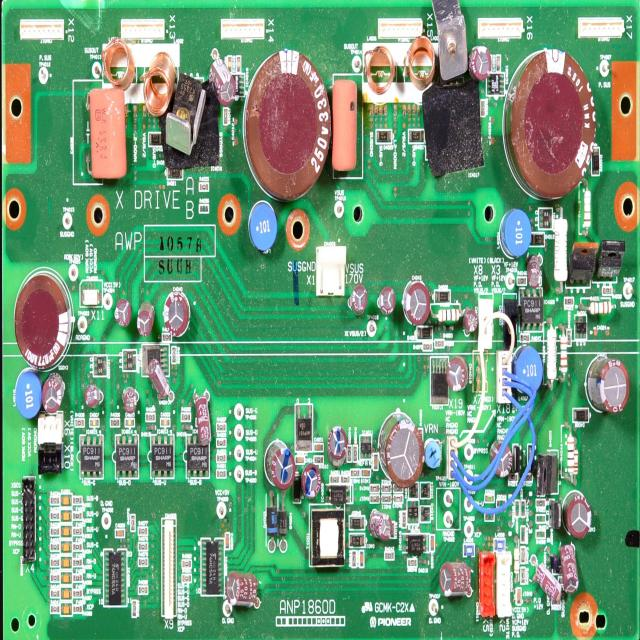Capacitor Jumper: (246, 48, 332, 205), (510, 51, 590, 199), (13, 279, 73, 371), (83, 88, 123, 188), (382, 419, 424, 484), (592, 356, 630, 415), (562, 492, 591, 537), (162, 292, 190, 335), (536, 564, 565, 604), (404, 282, 429, 326), (212, 61, 237, 102), (440, 562, 470, 596), (227, 574, 258, 606), (270, 445, 294, 486), (43, 372, 64, 412), (561, 543, 578, 590), (149, 360, 170, 398), (194, 393, 210, 441), (328, 427, 347, 463), (369, 509, 391, 540), (447, 357, 467, 391), (492, 442, 512, 476), (470, 46, 491, 78), (300, 466, 322, 496), (137, 305, 155, 337), (527, 256, 544, 288), (349, 288, 367, 314), (84, 383, 102, 408), (115, 300, 131, 328), (379, 286, 395, 313), (121, 389, 136, 412), (465, 310, 479, 332), (494, 53, 504, 74), (61, 600, 72, 617), (60, 585, 72, 600), (515, 586, 523, 608), (60, 571, 73, 583), (61, 508, 72, 522), (371, 451, 379, 470), (60, 493, 72, 505), (60, 556, 72, 568), (312, 440, 324, 452), (61, 525, 72, 538), (429, 533, 436, 553), (226, 54, 234, 71), (160, 417, 171, 428), (225, 531, 231, 551), (62, 541, 72, 553), (294, 456, 306, 466), (126, 416, 135, 429), (114, 527, 125, 537), (236, 55, 242, 73), (362, 468, 371, 479), (89, 418, 101, 426), (360, 550, 364, 566)
IC: (422, 84, 488, 174), (166, 90, 226, 174), (200, 535, 226, 599), (103, 550, 128, 604), (148, 432, 174, 480), (114, 434, 139, 478), (186, 433, 210, 477), (431, 354, 450, 406), (78, 434, 101, 476), (140, 344, 170, 376), (295, 402, 313, 448), (402, 534, 430, 558), (486, 71, 506, 98), (121, 347, 138, 371), (92, 357, 110, 377), (537, 209, 554, 229), (233, 74, 246, 95)
Resistor Jumper: (562, 432, 574, 479), (587, 298, 615, 316), (559, 330, 569, 380), (434, 307, 461, 324), (570, 442, 580, 479), (198, 179, 211, 194), (394, 492, 406, 506), (198, 201, 210, 215), (368, 482, 381, 494), (506, 472, 520, 483), (72, 493, 83, 507), (50, 508, 61, 522), (520, 545, 528, 564), (351, 442, 359, 461), (48, 493, 60, 505), (433, 338, 445, 350), (400, 510, 407, 530), (50, 602, 60, 616), (480, 98, 487, 118), (346, 444, 353, 464), (49, 555, 60, 567), (407, 558, 419, 569), (73, 602, 84, 614), (50, 525, 60, 538), (129, 514, 136, 532), (351, 550, 357, 571), (519, 566, 526, 584), (51, 571, 60, 585), (223, 106, 229, 127), (171, 345, 177, 366), (381, 492, 392, 503), (138, 525, 149, 536), (216, 466, 227, 477), (369, 494, 381, 504), (422, 342, 434, 352), (215, 421, 227, 431), (521, 473, 534, 482), (72, 512, 85, 521), (74, 538, 82, 552), (131, 601, 138, 617), (73, 572, 84, 582), (182, 574, 192, 585), (138, 584, 148, 595), (73, 587, 83, 598), (49, 588, 60, 598), (563, 298, 574, 308), (74, 417, 84, 428), (392, 484, 404, 493), (145, 413, 157, 422), (601, 288, 614, 296), (72, 524, 82, 534), (138, 540, 148, 550), (74, 557, 84, 567), (110, 416, 120, 426), (350, 468, 361, 477), (329, 473, 340, 482), (341, 473, 350, 484), (182, 558, 193, 567), (517, 277, 528, 286), (520, 332, 531, 341), (181, 412, 192, 421), (216, 454, 227, 463), (380, 484, 392, 492), (314, 456, 326, 464), (50, 542, 59, 552), (384, 550, 394, 559), (536, 500, 547, 508), (138, 558, 149, 566), (215, 438, 226, 446), (390, 522, 394, 540)
